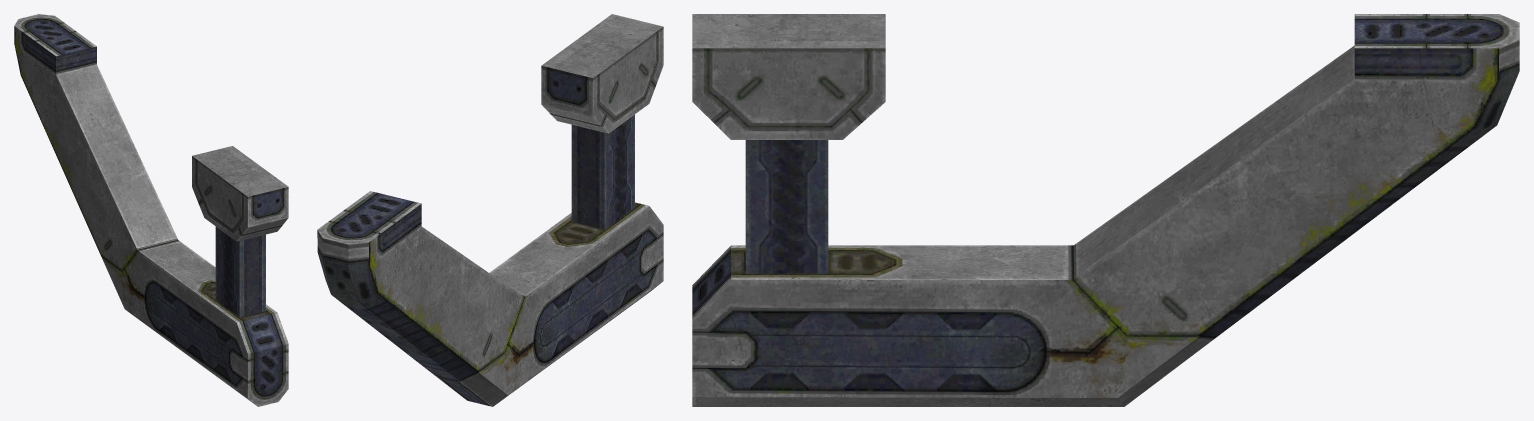
File: catwalk_wall_support.dae
The picture shows the model from 3 angles, left to right: view 1: azimuth 30°, elevation 25°; view 2: azimuth 150°, elevation 25°; view 3: azimuth 270°, elevation 25°; orthographic projection. The views are drawn at different scales.
Parts seen in each view (by area): view 1: pCube10; view 2: pCube10; view 3: pCube10.
Part boxes in pixels (x1,y1,x2,y2): pCube10: (14, 14, 288, 406); pCube10: (317, 14, 663, 406); pCube10: (692, 14, 1519, 406).
Bounding box in the file's own units: 0.1887 × 0.9375 × 1.91.
Materials: 1 (1 with a texture image).
